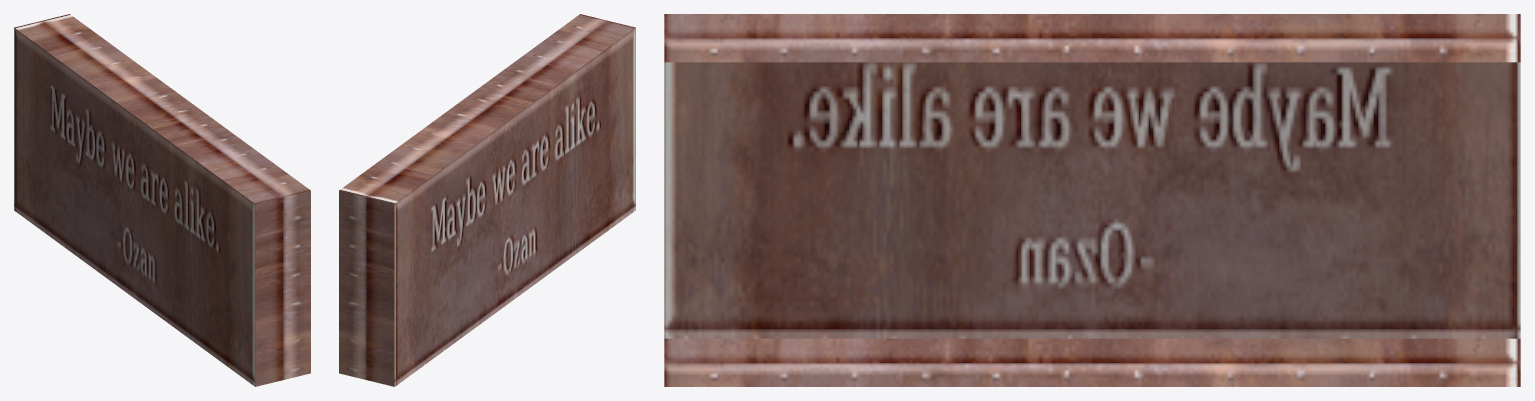
The model's file is ozan_maybewearealike.fbx.
The picture shows the model from 3 angles, left to right: view 1: azimuth 30°, elevation 25°; view 2: azimuth 150°, elevation 25°; view 3: azimuth 270°, elevation 25°; orthographic projection. The views are drawn at different scales.
Parts seen in each view (by area): view 1: Bazaar Complex Easteregg; view 2: Bazaar Complex Easteregg; view 3: Bazaar Complex Easteregg.
Boxes of the visible parts, x1,y1,x2,y2 form: Bazaar Complex Easteregg: (14,14,310,386); Bazaar Complex Easteregg: (339,14,635,386); Bazaar Complex Easteregg: (664,14,1520,386).
Bounding box in the file's own units: 0.3361 × 1.06 × 2.52.
